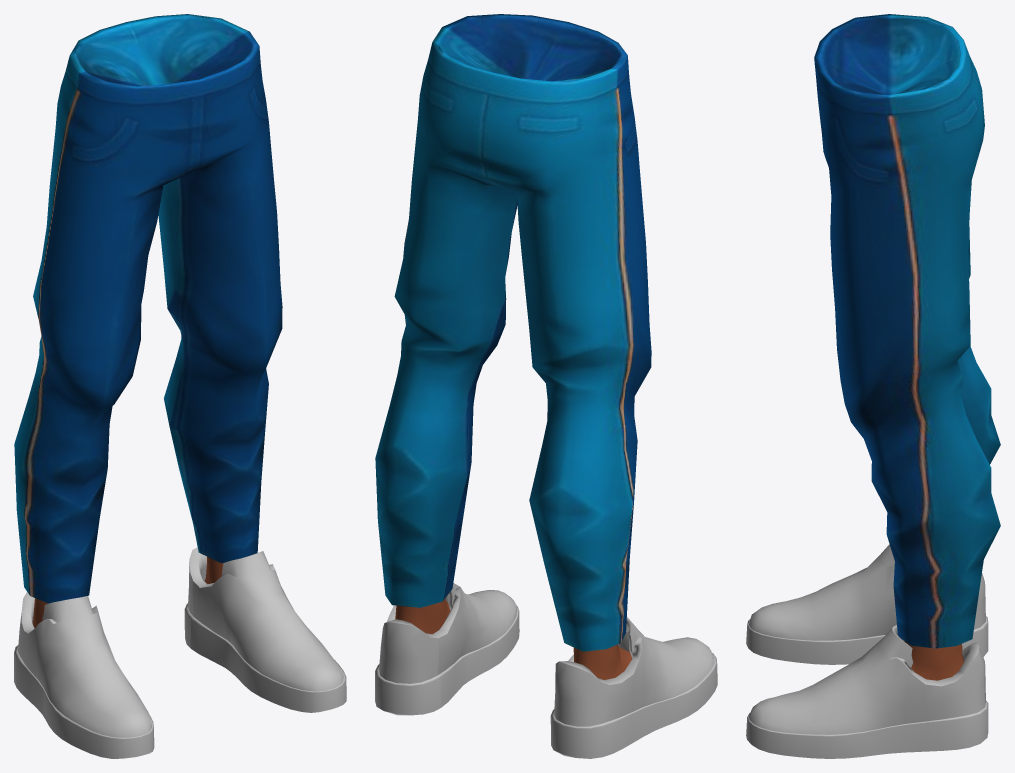
The picture shows the model from 3 angles, left to right: view 1: azimuth 30°, elevation 25°; view 2: azimuth 150°, elevation 25°; view 3: azimuth 270°, elevation 25°; orthographic projection. The views are drawn at different scales.
Parts seen in each view (by area): view 1: Wolf3D_Outfit_Bottom, Wolf3D_Outfit_Footwear.001, Wolf3D_Body.006; view 2: Wolf3D_Outfit_Bottom, Wolf3D_Outfit_Footwear.001, Wolf3D_Body.006; view 3: Wolf3D_Outfit_Bottom, Wolf3D_Outfit_Footwear.001, Wolf3D_Body.006.
Part boxes in pixels (x1,y1,x2,y2): Wolf3D_Outfit_Bottom: [14, 14, 282, 603]; Wolf3D_Outfit_Footwear.001: [14, 547, 346, 758]; Wolf3D_Body.006: [32, 556, 223, 628]; Wolf3D_Outfit_Bottom: [375, 14, 651, 651]; Wolf3D_Outfit_Footwear.001: [375, 583, 717, 758]; Wolf3D_Body.006: [395, 598, 632, 679]; Wolf3D_Outfit_Bottom: [814, 14, 1000, 648]; Wolf3D_Outfit_Footwear.001: [746, 544, 988, 758]; Wolf3D_Body.006: [904, 641, 963, 680].
Size of the model in its own units: 4.59 by 10.47 by 3.78.
Materials: 3 (1 with a texture image).
